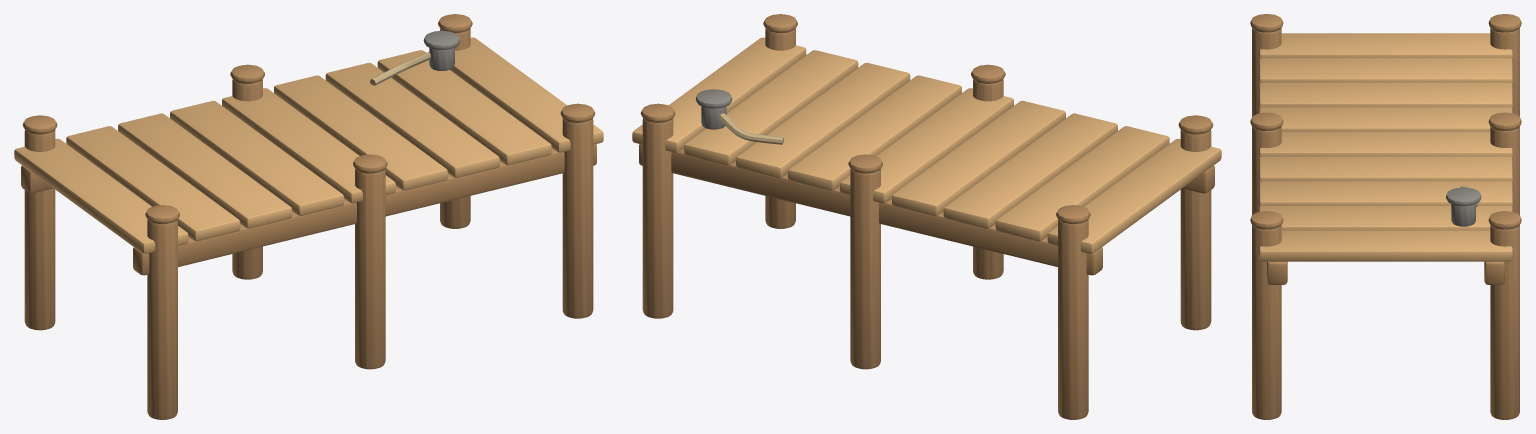
File: jetty.glb
3 views of the same model, side by side, from view 1: azimuth 30°, elevation 25°; view 2: azimuth 150°, elevation 25°; view 3: azimuth 270°, elevation 25° (orthographic). The views are drawn at different scales.
Visible parts, largest first — view 1: pine, crate, steel_dark, rope; view 2: pine, crate, steel_dark, rope; view 3: pine, crate, steel_dark.
Boxes of the visible parts, x1,y1,x2,y2 form: pine: (14, 37, 603, 253); crate: (21, 14, 596, 419); steel_dark: (423, 30, 460, 70); rope: (370, 51, 430, 85); pine: (632, 37, 1221, 253); crate: (639, 14, 1214, 419); steel_dark: (695, 89, 732, 129); rope: (719, 113, 783, 144); pine: (1259, 33, 1512, 261); crate: (1250, 14, 1521, 419); steel_dark: (1446, 187, 1481, 226).
Size of the model in its own units: 2 by 0.8725 by 1.05.
